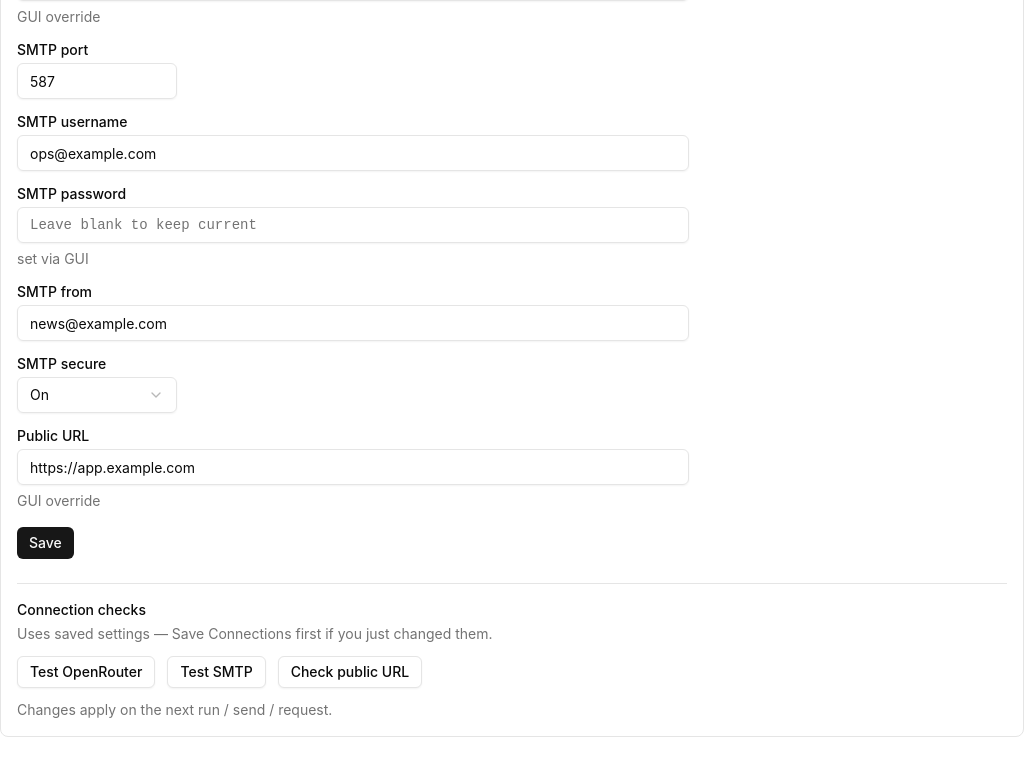
Test case: ConnectionsSettings — connection diagnostics controls › toasts warning on warn and shows inline Warn status
(page scrolled)
Click the button "Check public URL" at {"x": 350, "y": 672}, box [278,656,422,688]
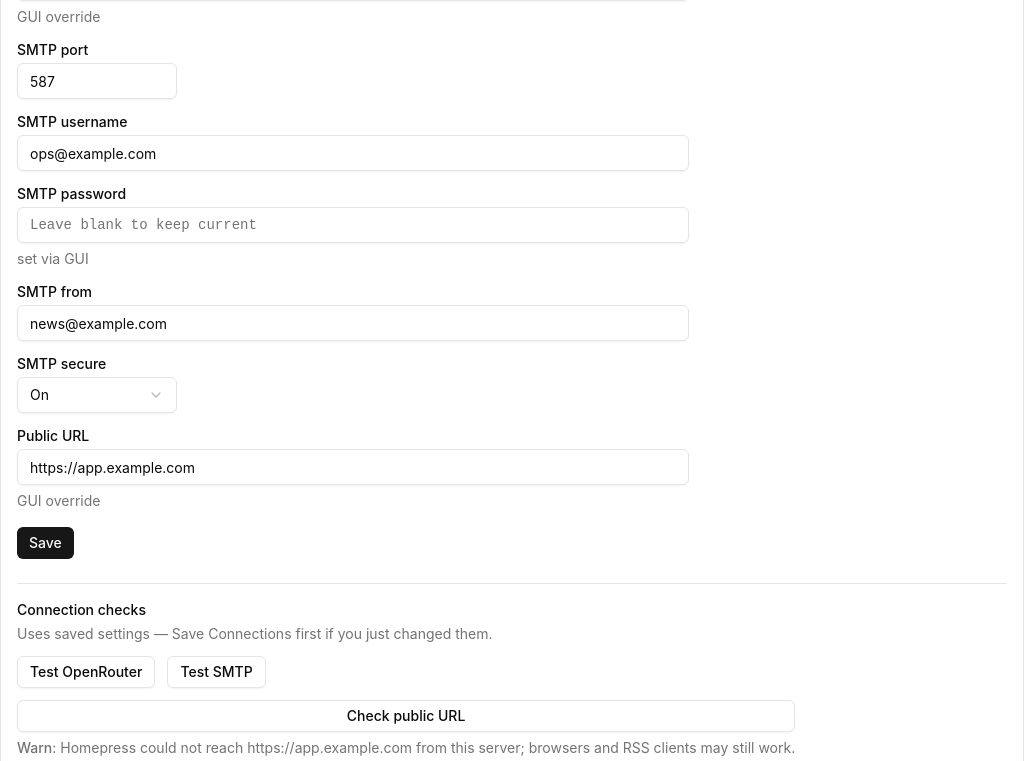
Now the text "Warn" is shown, box [17,739,52,756]
Now the text "could not reach" is shown, box [60,739,795,756]
